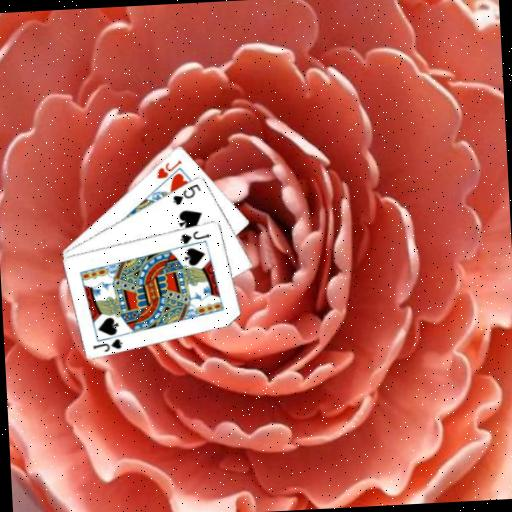5S: (169, 180, 203, 207)
JH: (153, 157, 185, 181)
JS: (177, 226, 211, 246), (90, 335, 125, 354)
